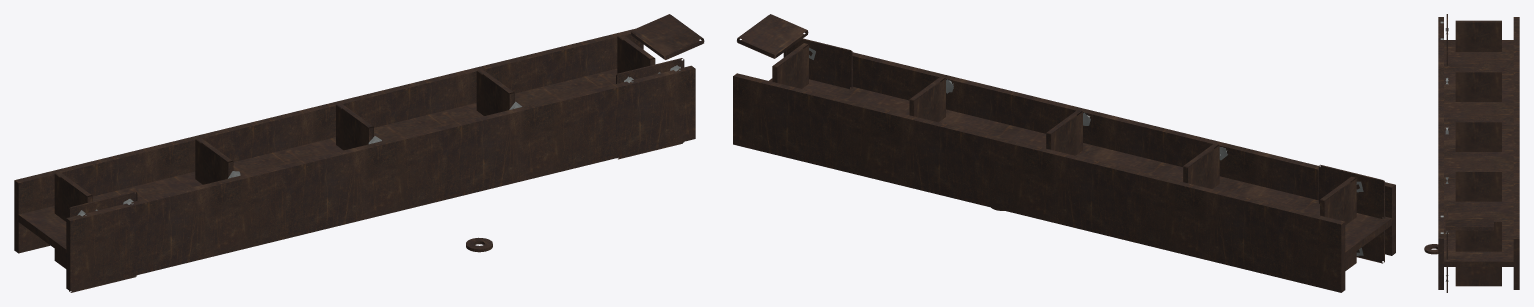
File: lod2_NOT_APPROVED.glb
3 views of the same model, side by side, from view 1: azimuth 30°, elevation 25°; view 2: azimuth 150°, elevation 25°; view 3: azimuth 270°, elevation 25° (orthographic). The views are drawn at different scales.
Parts seen in each view (by area): view 1: f3_oxidized_iron_surface; view 2: f3_oxidized_iron_surface, f3_bare_worn_steel_surface; view 3: f3_oxidized_iron_surface, f3_bare_worn_steel_surface.
Boxes of the visible parts, box(x1,y1,x2,y2) form: f3_oxidized_iron_surface: box(14, 14, 704, 292); f3_oxidized_iron_surface: box(733, 14, 1395, 292); f3_bare_worn_steel_surface: box(809, 47, 1363, 255); f3_oxidized_iron_surface: box(1424, 14, 1519, 292); f3_bare_worn_steel_surface: box(1440, 21, 1448, 281).
Bounding box in the file's own units: 4.09 × 0.8934 × 0.725.
Materials: 2 (2 with a texture image).
